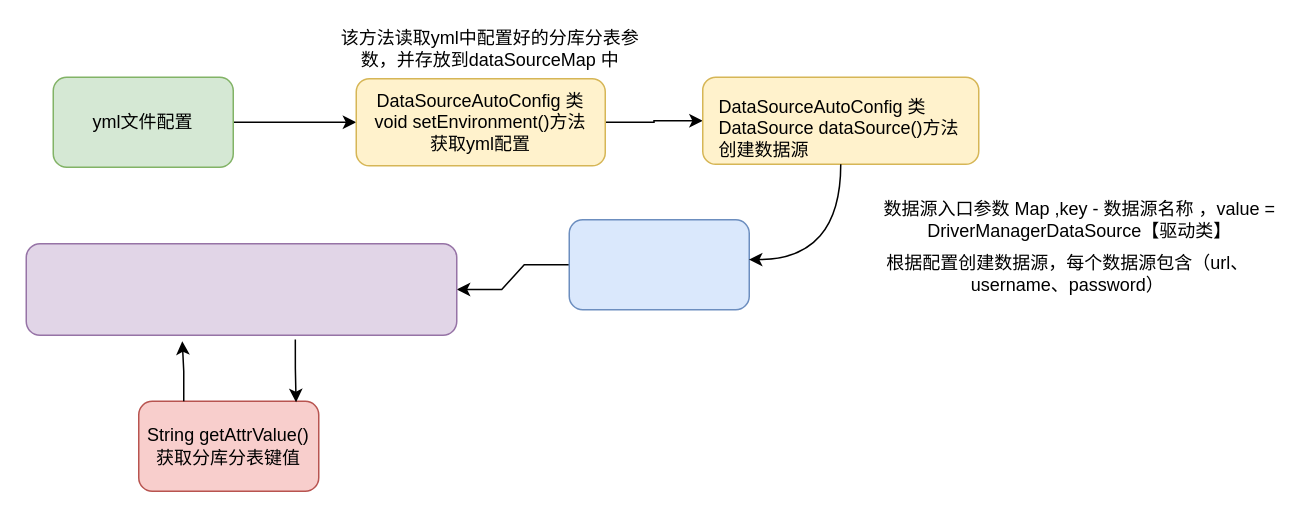
This 1311x518 diagram has some shape labels left out. Here are the shapes that lost their labels. From the top down, the centre of each, then its label:
point (658, 264): DBRouterConfig类 设置分库数和分表数
point (241, 288): DBRouterJoinPoint类 切面拦截，拦截带有@DBrouter注解的方法： 1.路由计算、2 扰动函数、3.缓存到ThreadLocal
